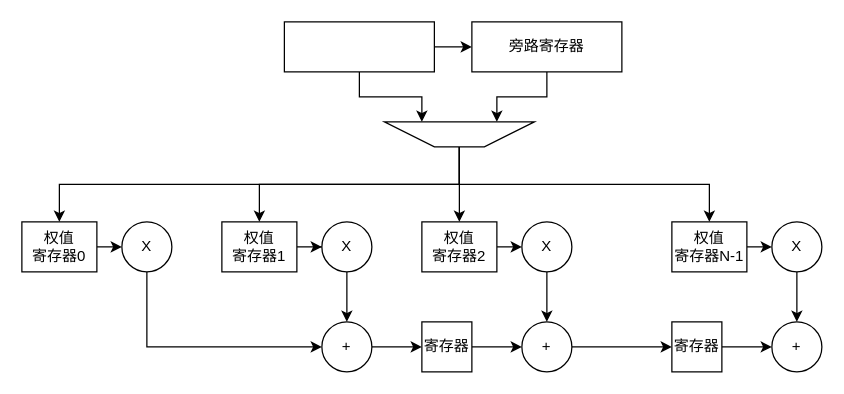
This 844x394 diagram has some shape labels left out. Here are the shapes that lost their labels. From the top down, the box of each, then its label:
(283, 21, 434, 72): 输入寄存器
(383, 121, 534, 147): mux
